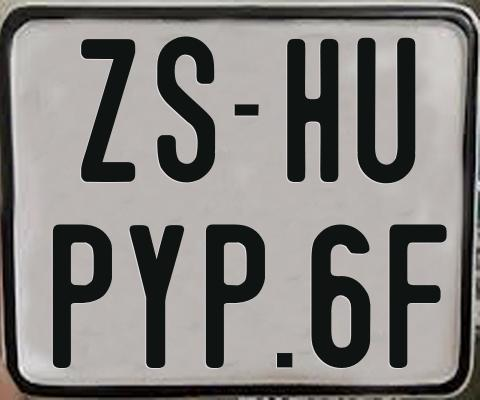6: (309, 222, 371, 367)
F: (386, 221, 444, 371)
H: (285, 37, 338, 180)
P: (52, 221, 113, 366), (206, 222, 266, 367)
S: (154, 34, 218, 180)
U: (357, 35, 419, 180)
Y: (126, 224, 183, 371)
Z: (78, 38, 137, 184)
